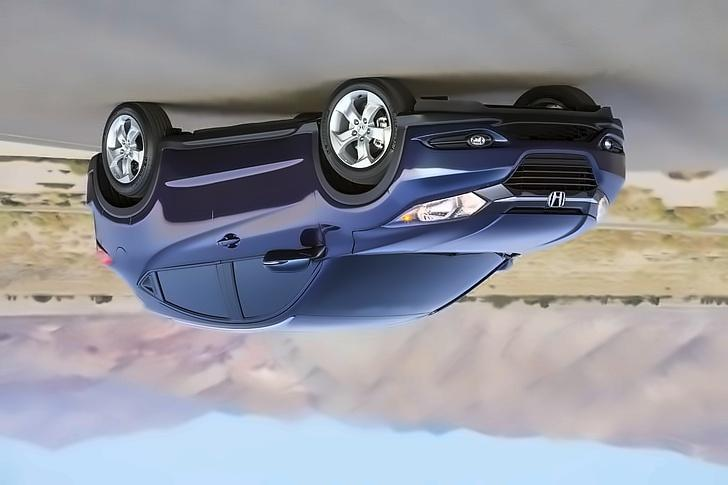Car hood: (349, 199, 598, 265)
Fender - -R-L-: (87, 172, 169, 289)
Front bumper: (388, 99, 632, 205)
Headlight - -L-: (381, 189, 493, 229)
Passenger-s door - -F-L-: (210, 111, 335, 332)
Passenger-s door - -R-L-: (138, 109, 239, 334)
Rear bumper: (78, 151, 119, 230)
Rear light - -L-: (89, 240, 114, 272)
Side bumper - -L-: (153, 107, 325, 195)
Side mirror - -L-: (262, 235, 329, 276)
